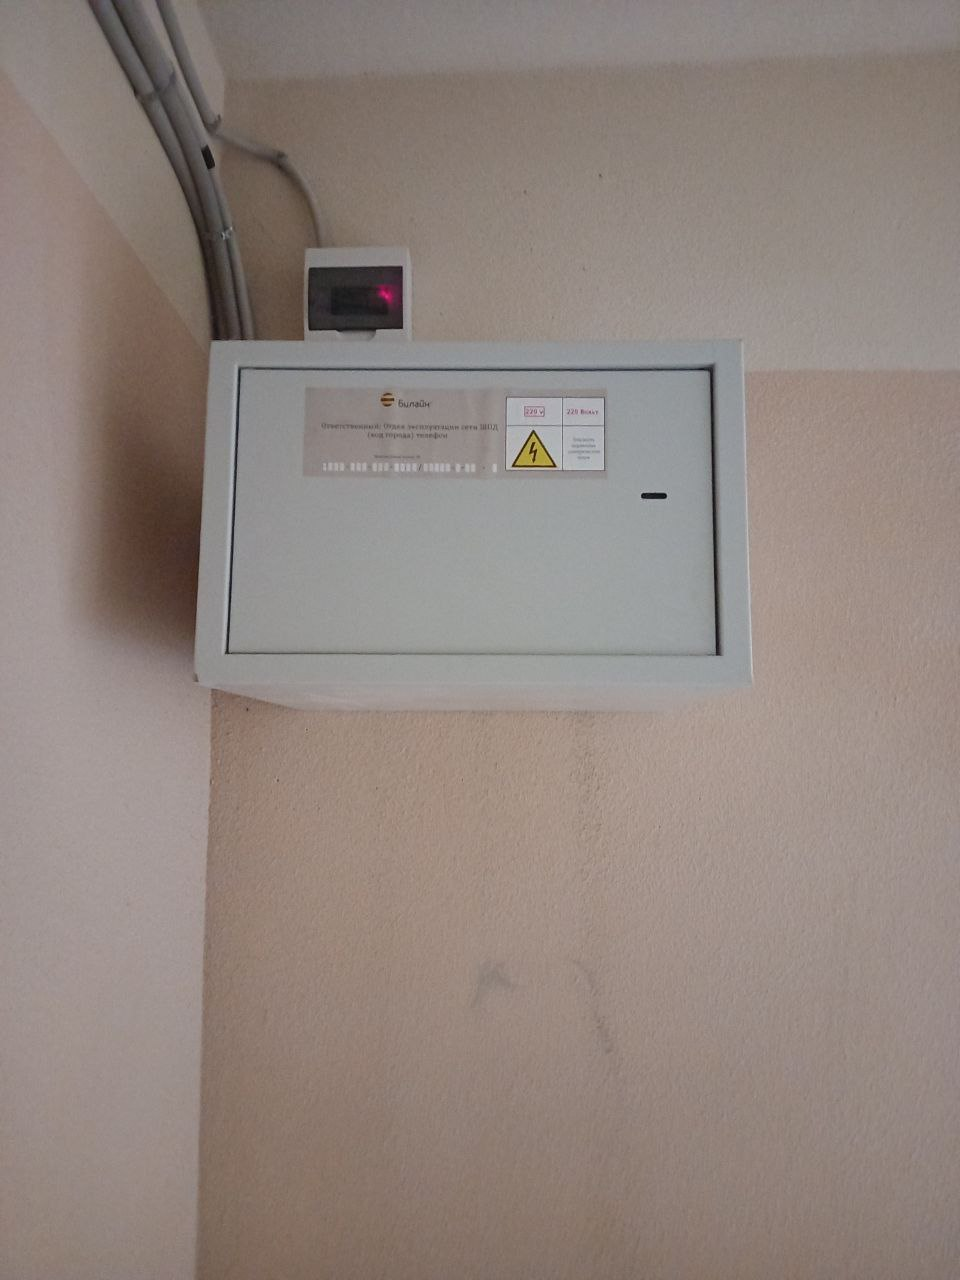shta-7m: (179, 326, 768, 715)
